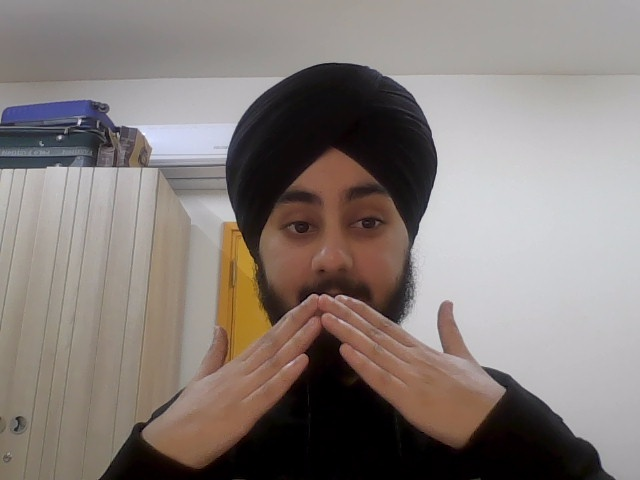Thanks: (134, 291, 521, 466)
